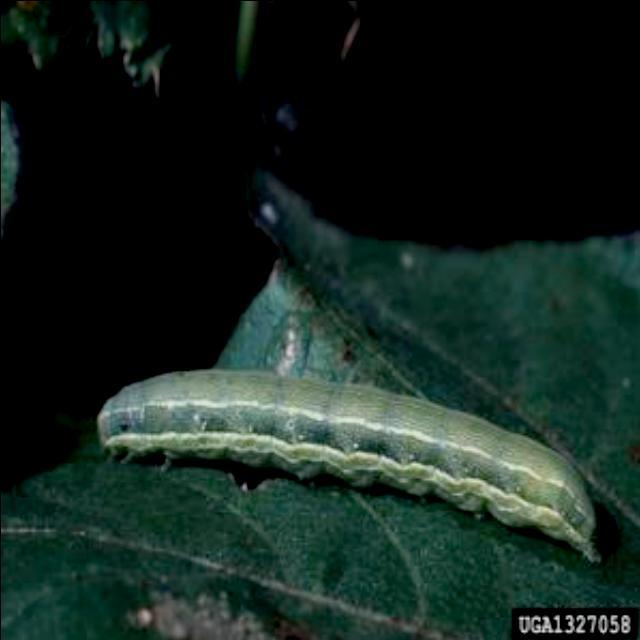Beet armyworm: (61, 290, 619, 596)
